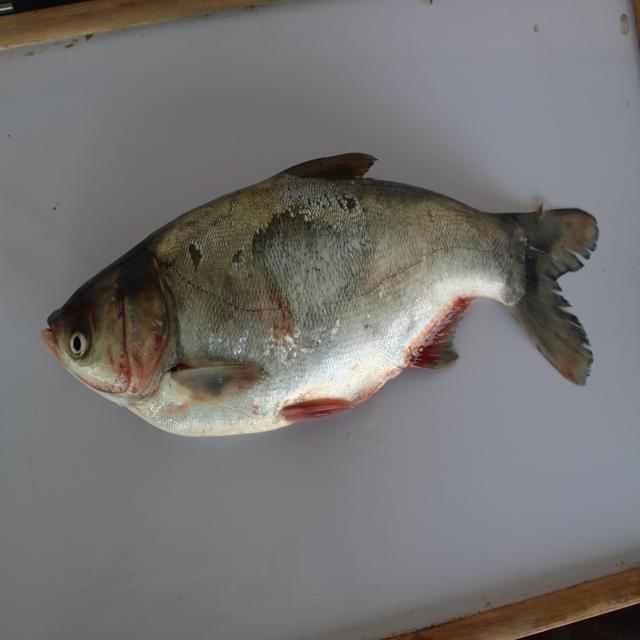SilverCarp: (9, 157, 633, 446)
